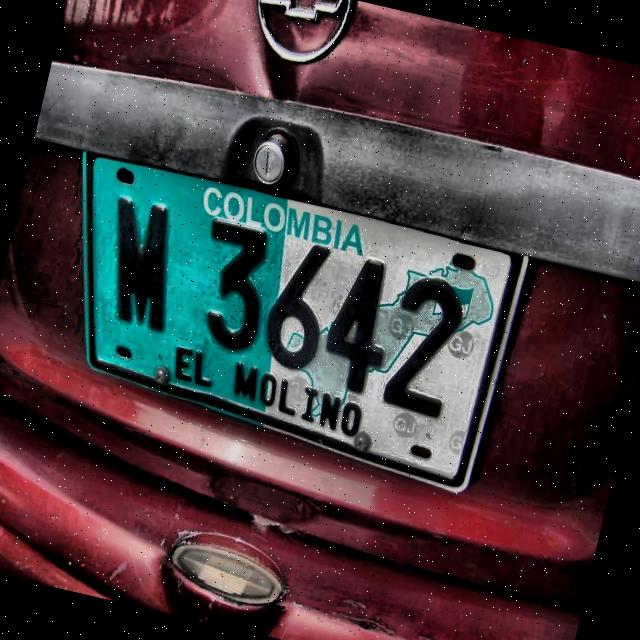2: (381, 263, 480, 432)
3: (199, 214, 274, 357)
4: (317, 247, 397, 404)
6: (259, 230, 345, 375)
M: (109, 189, 177, 339)
